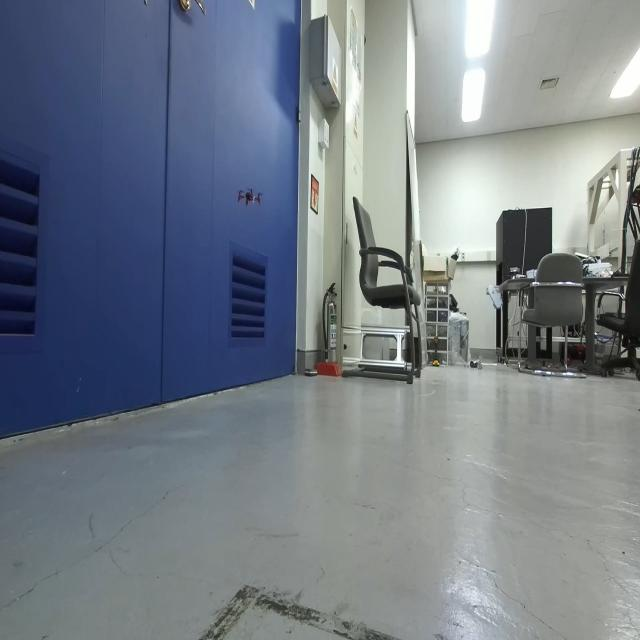crazyflie: (233, 177, 266, 218)
